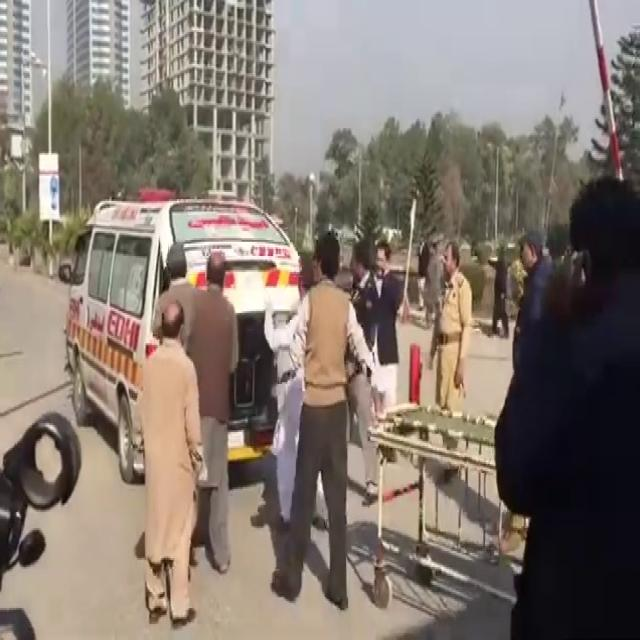ambulance: (60, 168, 332, 530)
